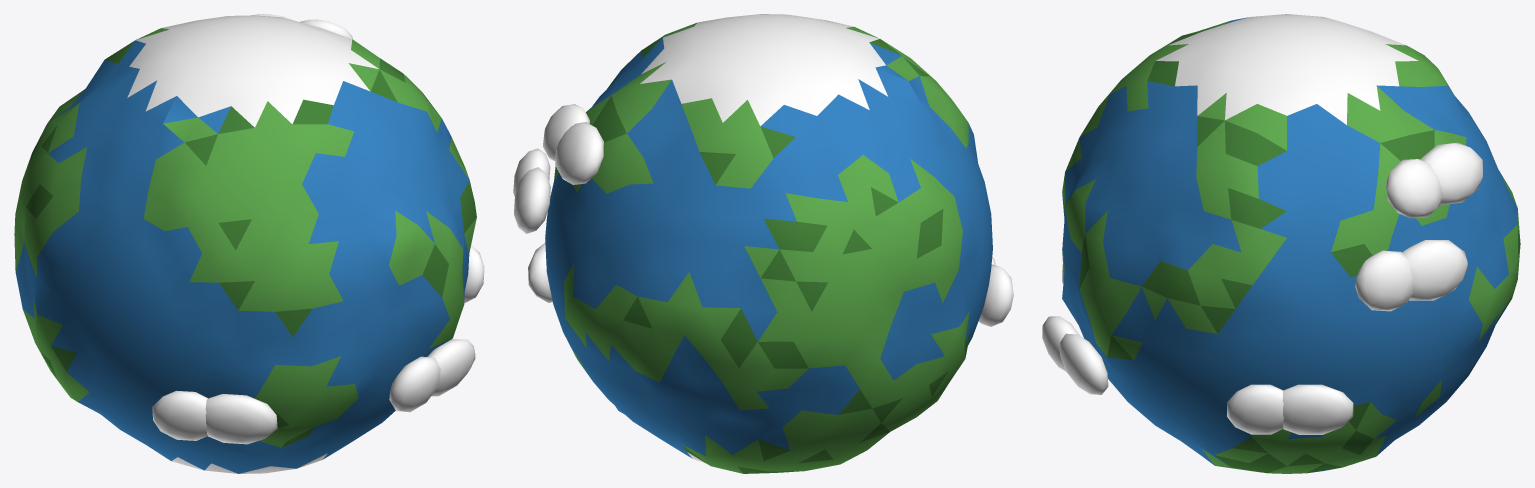
Rendered from earth.fbx.
3 views of the same model, side by side, from view 1: azimuth 30°, elevation 25°; view 2: azimuth 150°, elevation 25°; view 3: azimuth 270°, elevation 25° (orthographic).
Visible parts, largest first — view 1: Earth, Clouds; view 2: Earth, Clouds; view 3: Earth, Clouds.
Part boxes in pixels (x1,y1,x2,y2): Earth: [14, 15, 476, 473]; Clouds: [152, 14, 484, 444]; Earth: [545, 14, 992, 473]; Clouds: [513, 104, 1013, 326]; Earth: [1062, 14, 1520, 473]; Clouds: [1042, 142, 1483, 434].
Bounding box in the file's own units: 0.2153 × 0.205 × 0.213.
Materials: 1 (1 with a texture image).
